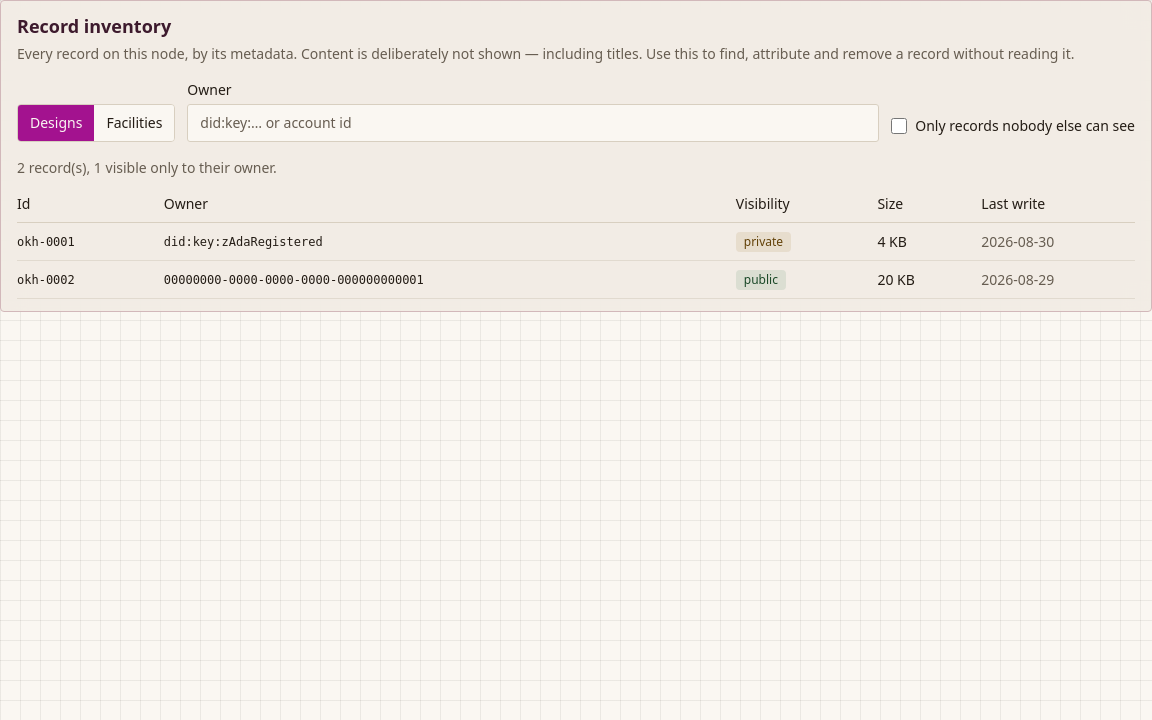
Scenario: InventoryPanel › filters by owner across both identifiers
Expected: the text "okh-0001" is shown, left=17, top=223, right=164, bottom=260
Type "000000000001" into the field labelled "Owner" at [533, 123], box left=187, top=104, right=879, bottom=142
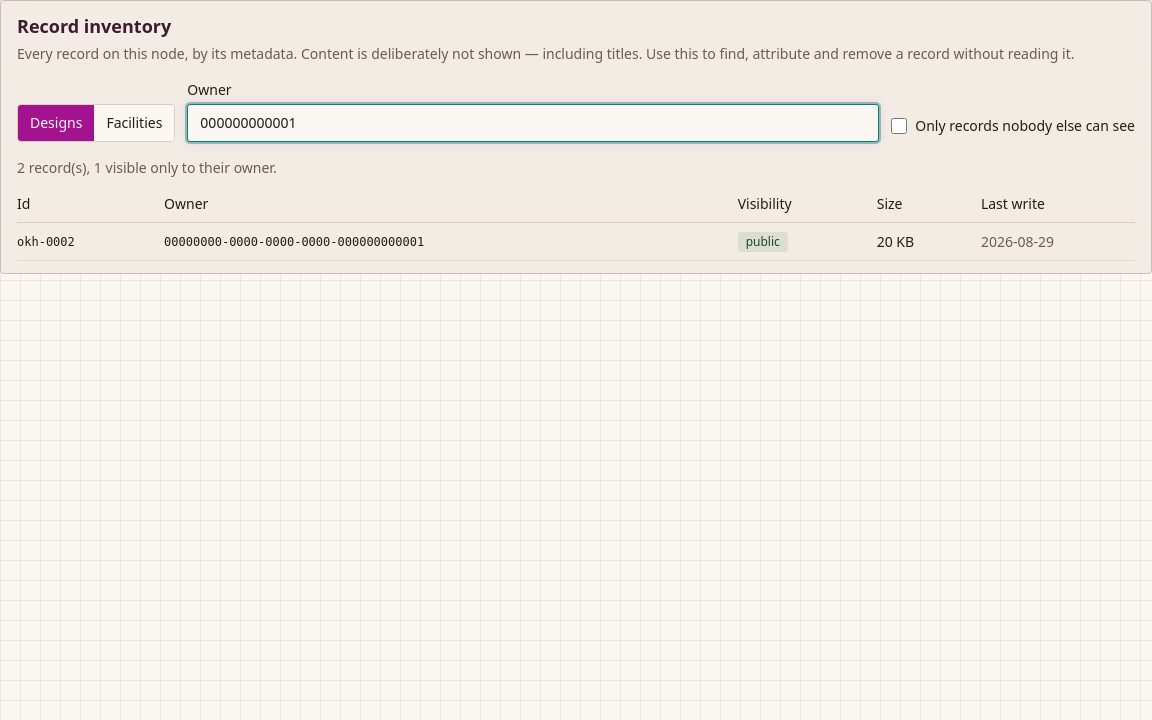
Expected: the text "okh-0002" is shown, left=17, top=223, right=164, bottom=260
Expected: the text "okh-0001" is gone
